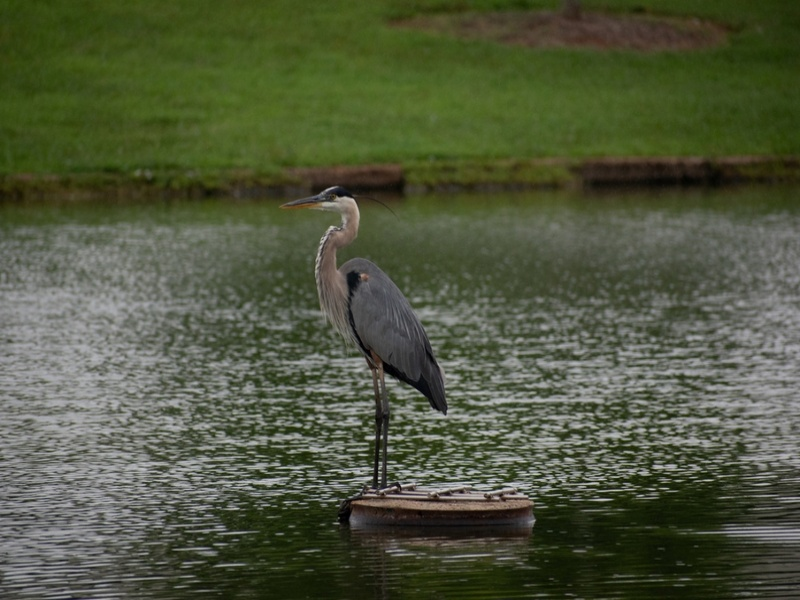heron: (279, 183, 452, 496)
